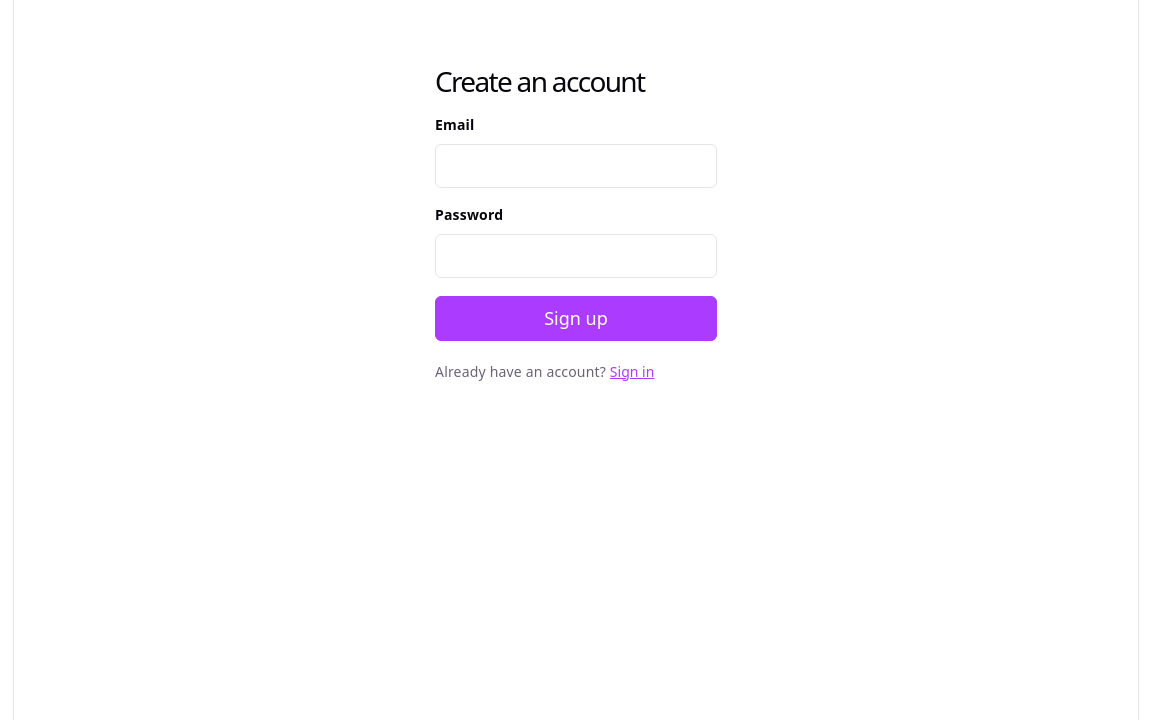
it: a sign-up that needs email confirmation says so instead
Type "new@example.com" into the field labelled "Email" at {"x": 576, "y": 166}, box [435,144,717,188]
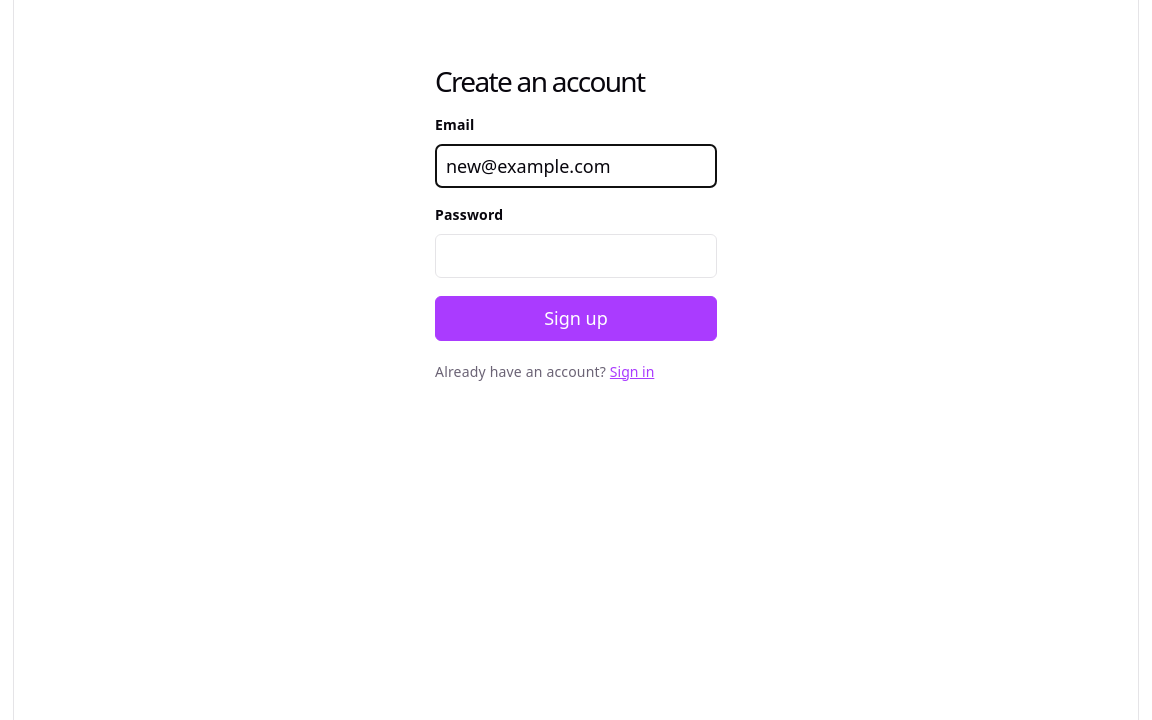
Type "secret123" into the password field labelled "Password" at {"x": 576, "y": 256}, box [435,234,717,278]
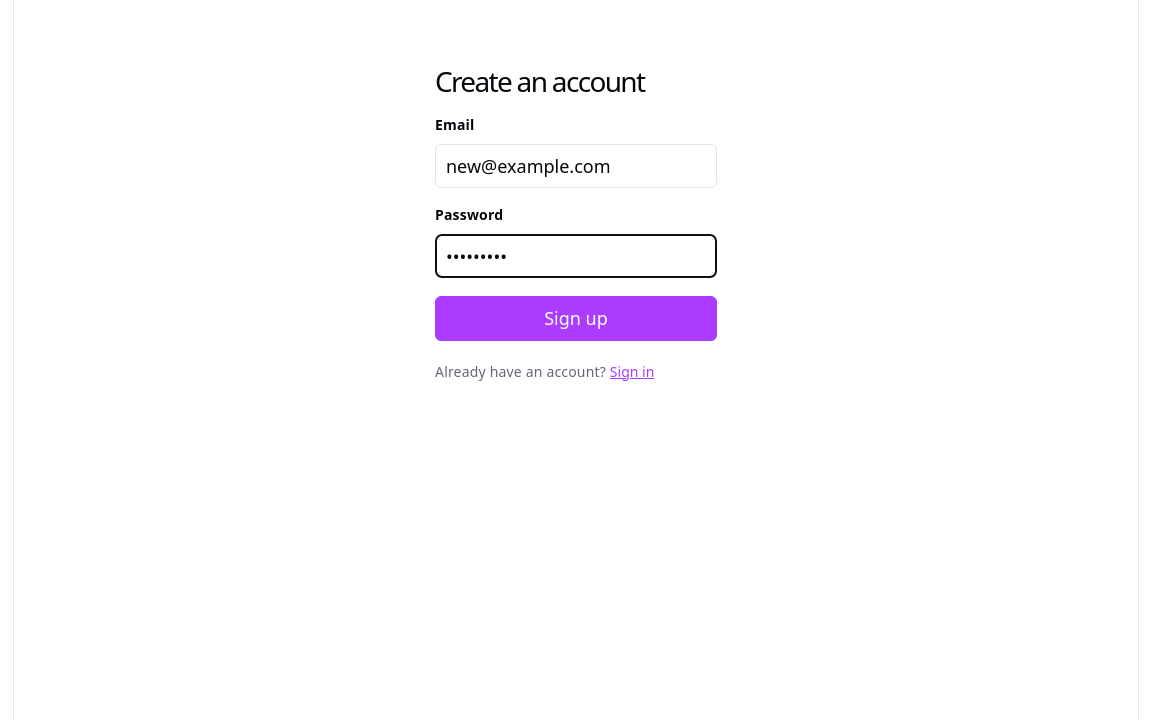
Click the button "Sign up" at {"x": 576, "y": 319}, box [435,296,717,341]
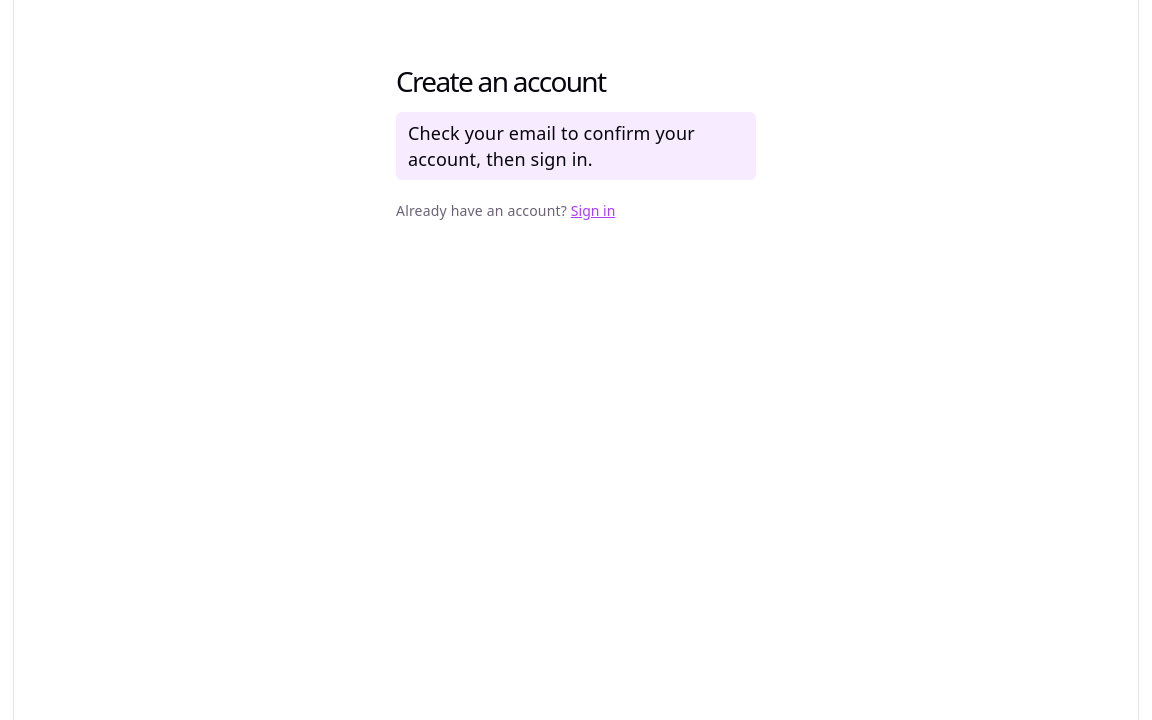
Expected: the message shows "Check your email", [408,121,695,171]
